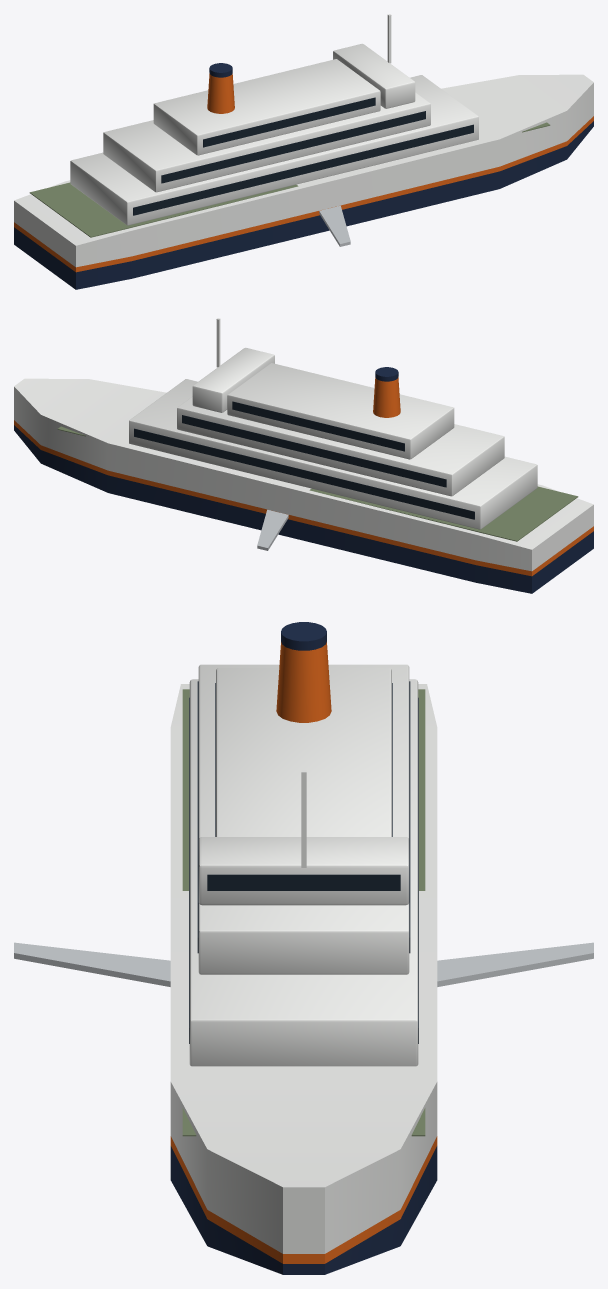
Rendered from misc.glb.
3 views of the same model, one above another, from view 1: azimuth 30°, elevation 25°; view 2: azimuth 150°, elevation 25°; view 3: azimuth 270°, elevation 25° (orthographic). The views are drawn at different scales.
Parts seen in each view (by area): view 1: ferry, plane; view 2: ferry, plane; view 3: ferry, plane.
Part boxes in pixels (bbox=[...]): ferry: bbox=[14, 14, 593, 289]; plane: bbox=[319, 205, 350, 246]; ferry: bbox=[14, 318, 593, 593]; plane: bbox=[257, 509, 288, 550]; ferry: bbox=[170, 622, 437, 1274]; plane: bbox=[14, 942, 593, 986].
Size of the model in its own units: 71 by 21.14 by 33.
